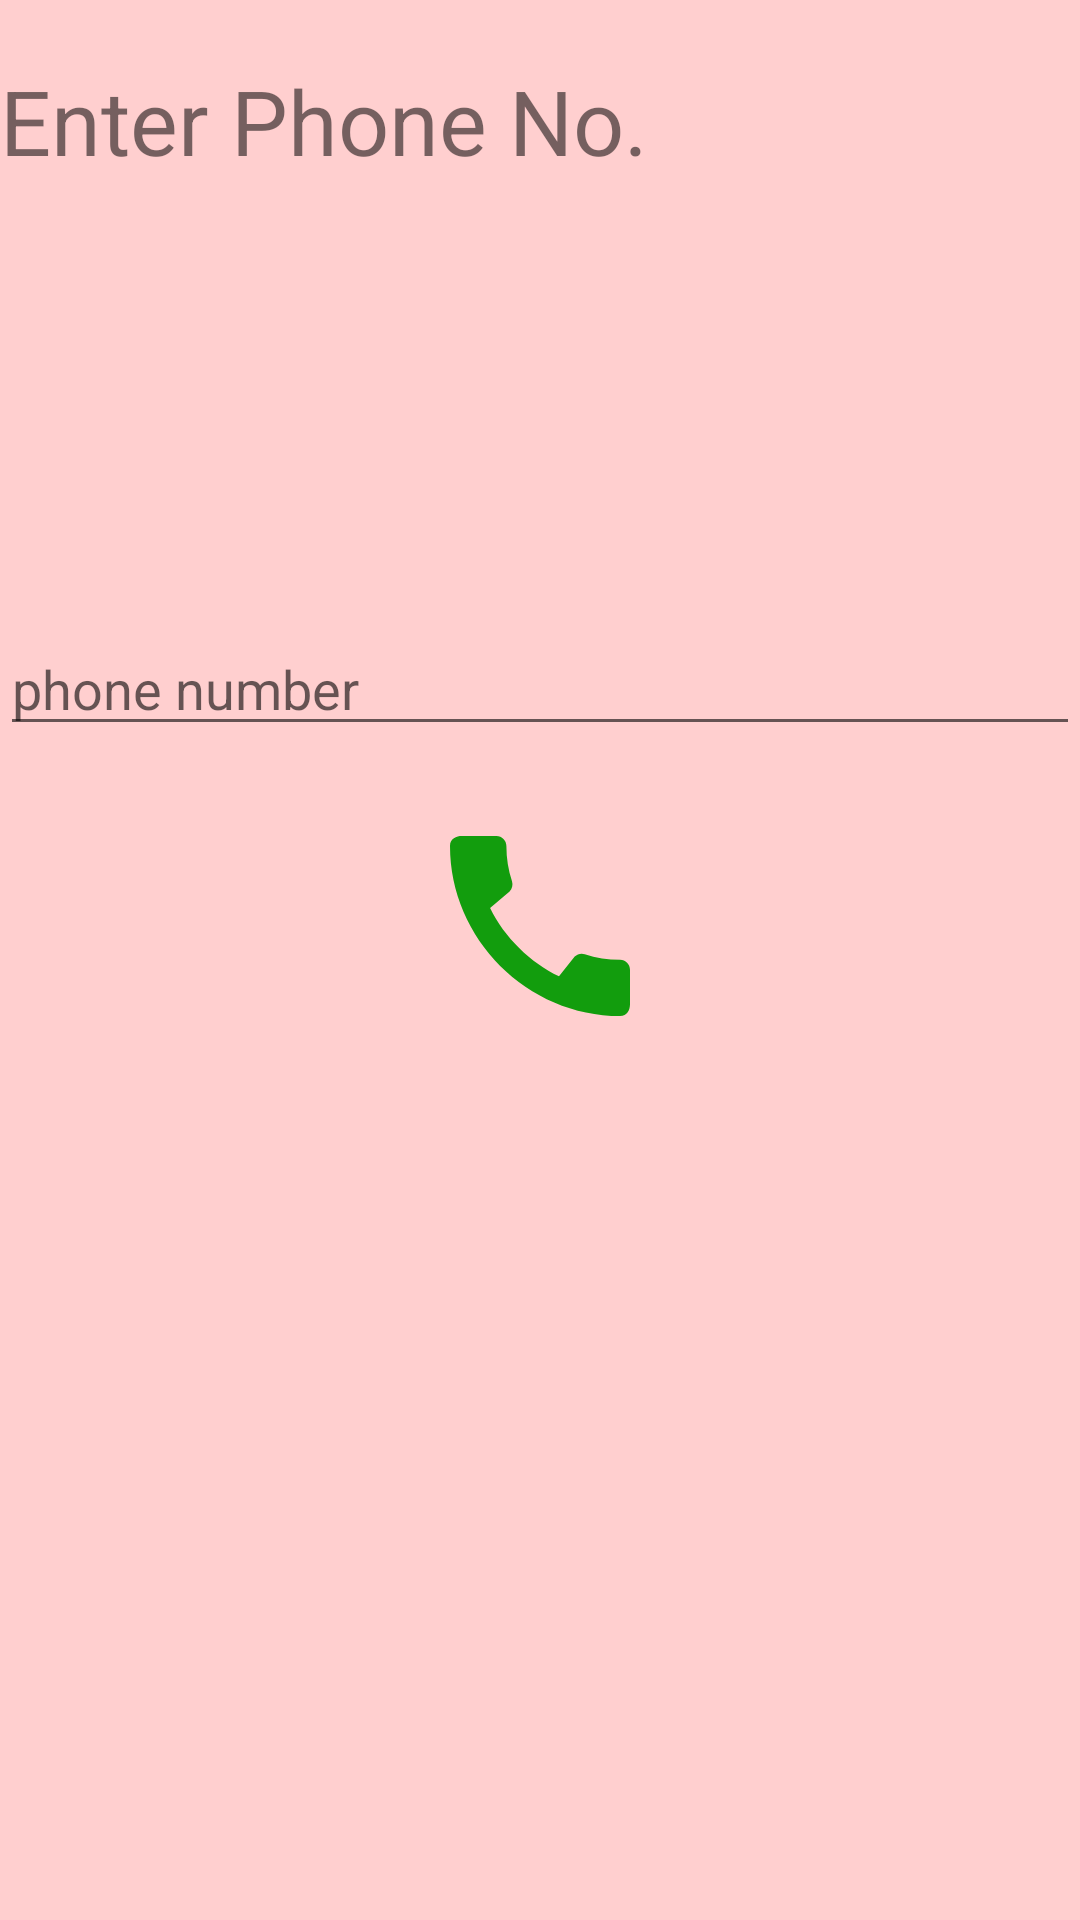

Icon click points for this 1080*1920 phone screenshot, format [x,y]:
call: [540,926]
